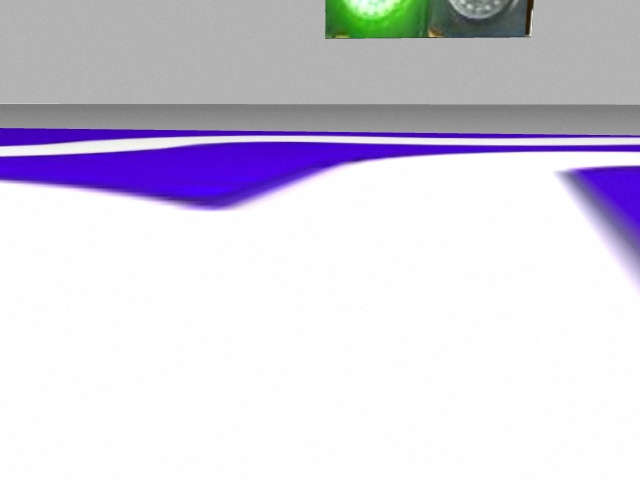green: (326, 1, 429, 38)
